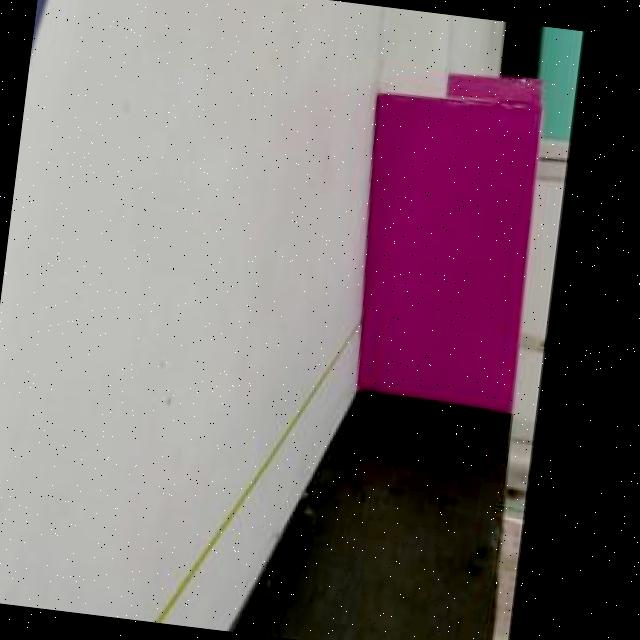xparking: (356, 94, 539, 404)
